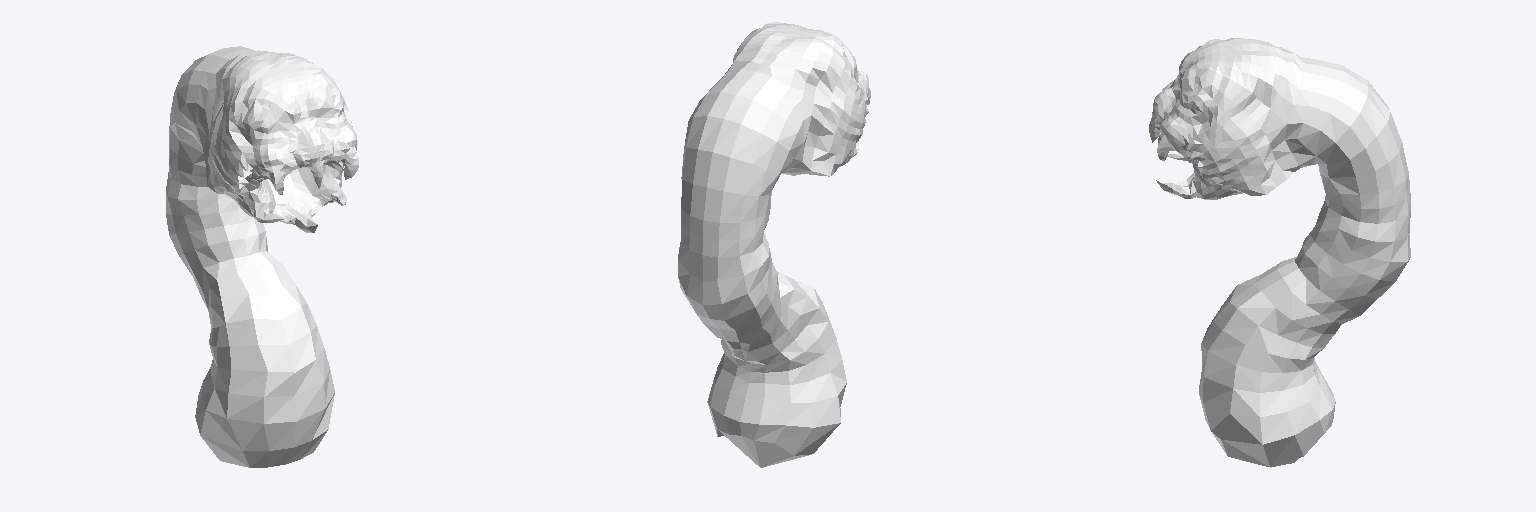
The model's file is Enemy 1.obj.
3 views of the same model, side by side, from view 1: azimuth 30°, elevation 25°; view 2: azimuth 150°, elevation 25°; view 3: azimuth 270°, elevation 25° (orthographic).
Parts seen in each view (by area): view 1: Volume81; view 2: Volume81; view 3: Volume81.
Part boxes in pixels (x1,y1,x2,y2): Volume81: (166, 46, 358, 467); Volume81: (678, 22, 870, 467); Volume81: (1149, 38, 1410, 467).
Bounding box in the file's own units: 403 × 1236 × 711.